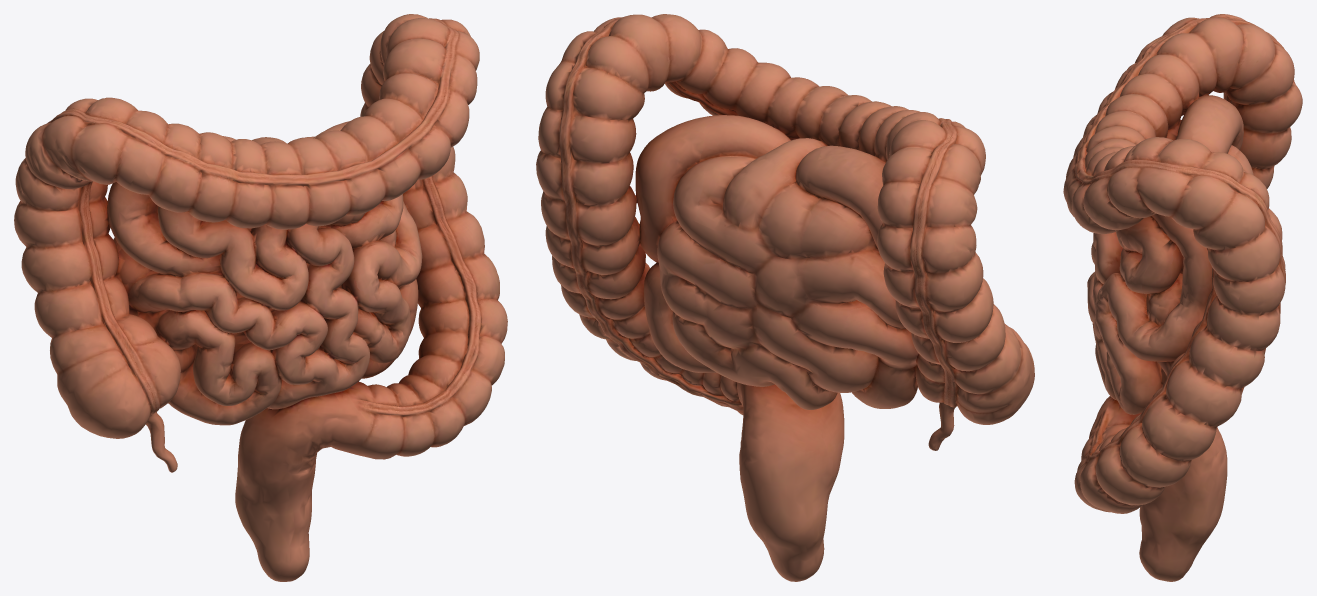
File: intestine.glb
3 renders of one model, left to right at view 1: azimuth 30°, elevation 25°; view 2: azimuth 150°, elevation 25°; view 3: azimuth 270°, elevation 25°, orthographic. The views are drawn at different scales.
Parts seen in each view (by area): view 1: tripo_node_62b379d0-ce68-4c4f-9391-eb1f11136f30; view 2: tripo_node_62b379d0-ce68-4c4f-9391-eb1f11136f30; view 3: tripo_node_62b379d0-ce68-4c4f-9391-eb1f11136f30.
Part boxes in pixels (x1,y1,x2,y2): tripo_node_62b379d0-ce68-4c4f-9391-eb1f11136f30: [14, 14, 507, 581]; tripo_node_62b379d0-ce68-4c4f-9391-eb1f11136f30: [536, 14, 1034, 581]; tripo_node_62b379d0-ce68-4c4f-9391-eb1f11136f30: [1063, 14, 1302, 581].
Bounding box in the file's own units: 0.8857 × 0.9999 × 0.4267.
Materials: 1 (1 with a texture image).
